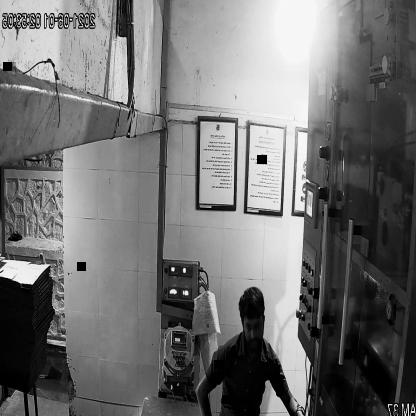no_goggles: (240, 315, 269, 338)
